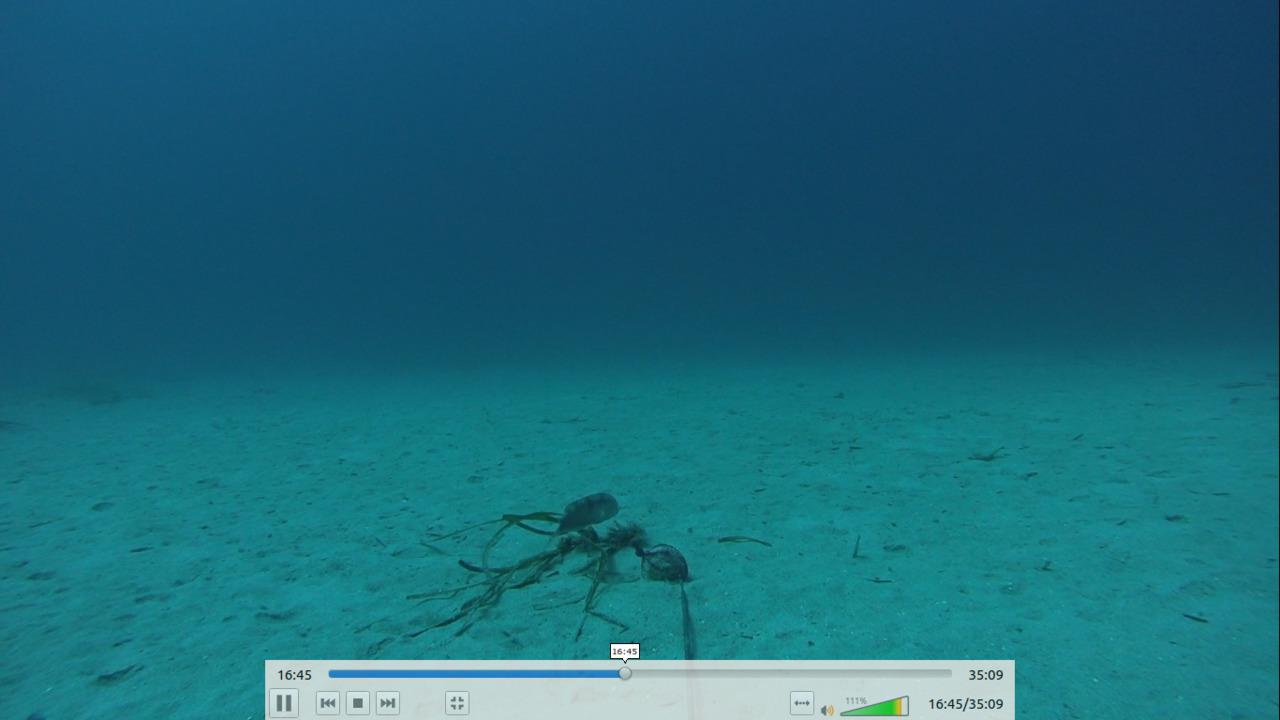raor: (547, 489, 625, 536)
